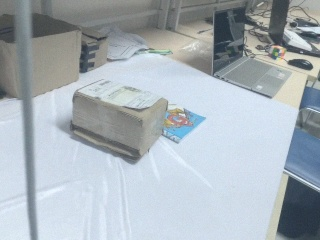box: (70, 78, 169, 161), (1, 12, 82, 100)
mouse: (288, 58, 313, 70)
